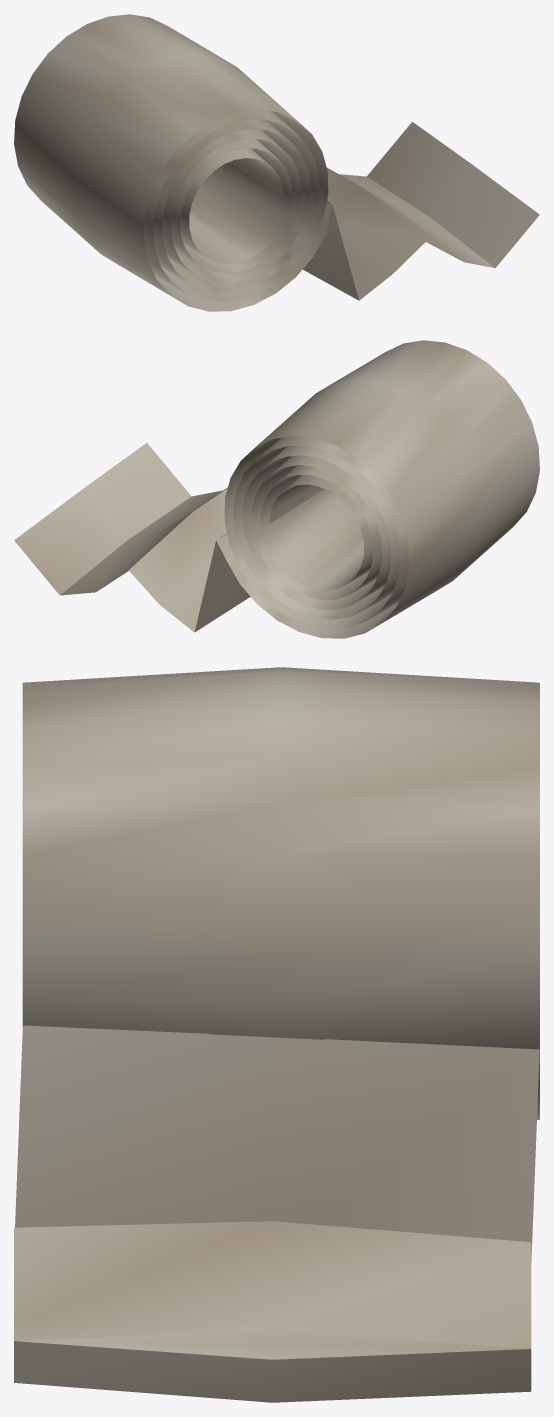
The model's file is bandage.glb.
3 renders of one model, top to bottom at view 1: azimuth 30°, elevation 25°; view 2: azimuth 150°, elevation 25°; view 3: azimuth 270°, elevation 25°, orthographic. The views are drawn at different scales.
Parts seen in each view (by area): view 1: bandage; view 2: bandage; view 3: bandage.
Part boxes in pixels (x1,y1,x2,y2): bandage: (14, 14, 539, 311); bandage: (14, 340, 539, 638); bandage: (14, 667, 539, 1402).
Size of the model in its own units: 0.1082 by 0.0592 by 0.061.
